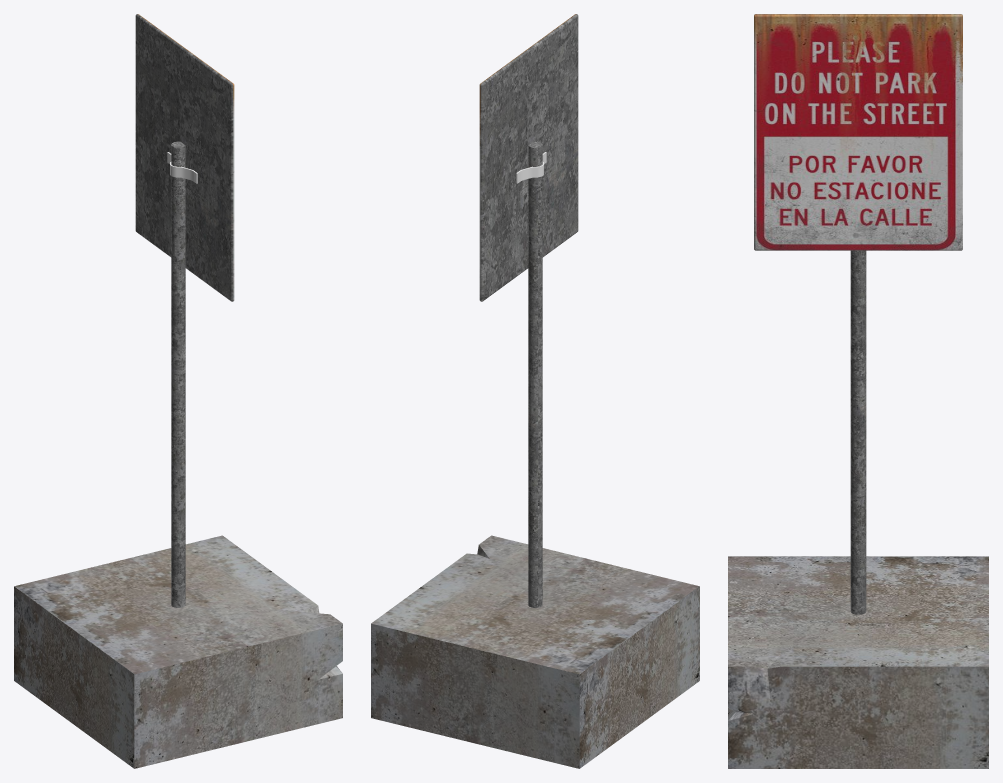
Rendered from Guard Sign.fbx.
The picture shows the model from 3 angles, left to right: view 1: azimuth 30°, elevation 25°; view 2: azimuth 150°, elevation 25°; view 3: azimuth 270°, elevation 25°; orthographic projection. The views are drawn at different scales.
Visible parts, largest first — view 1: Cube, Cube_1, Cylinder; view 2: Cube, Cube_1, Cylinder; view 3: Cube, Cube_1, Cylinder.
Boxes of the visible parts, x1,y1,x2,y2 form: Cube: [14, 535, 342, 768]; Cube_1: [135, 14, 234, 301]; Cylinder: [171, 141, 185, 607]; Cube: [371, 535, 699, 768]; Cube_1: [479, 14, 578, 301]; Cylinder: [528, 141, 542, 607]; Cube: [728, 556, 988, 768]; Cube_1: [754, 14, 962, 250]; Cylinder: [850, 250, 866, 614].
Size of the model in its own units: 229 by 680 by 229.
